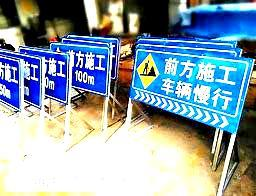sign: (130, 49, 249, 130), (71, 43, 109, 97), (43, 52, 68, 104), (23, 56, 43, 108), (1, 58, 20, 111)
